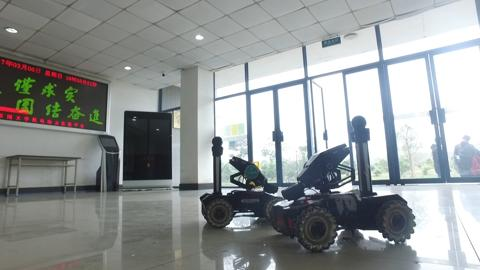chariot: (272, 115, 417, 257), (197, 136, 292, 231)
